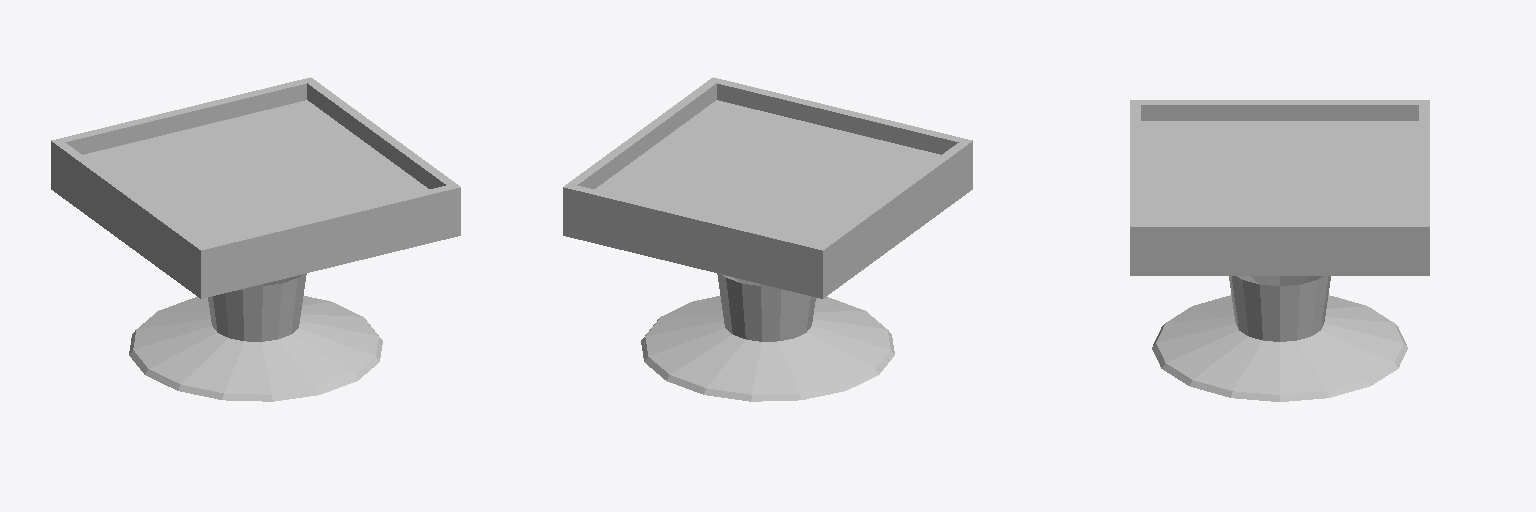
The model's file is table_low.obj.
3 renders of one model, left to right at view 1: azimuth 30°, elevation 25°; view 2: azimuth 150°, elevation 25°; view 3: azimuth 270°, elevation 25°, orthographic.
Parts seen in each view (by area): view 1: Cube_Cube.001; view 2: Cube_Cube.001; view 3: Cube_Cube.001.
Part boxes in pixels (x1,y1,x2,y2): Cube_Cube.001: (51, 77, 460, 401); Cube_Cube.001: (563, 77, 972, 401); Cube_Cube.001: (1130, 100, 1429, 401).
Size of the model in its own units: 2 by 1.35 by 2.